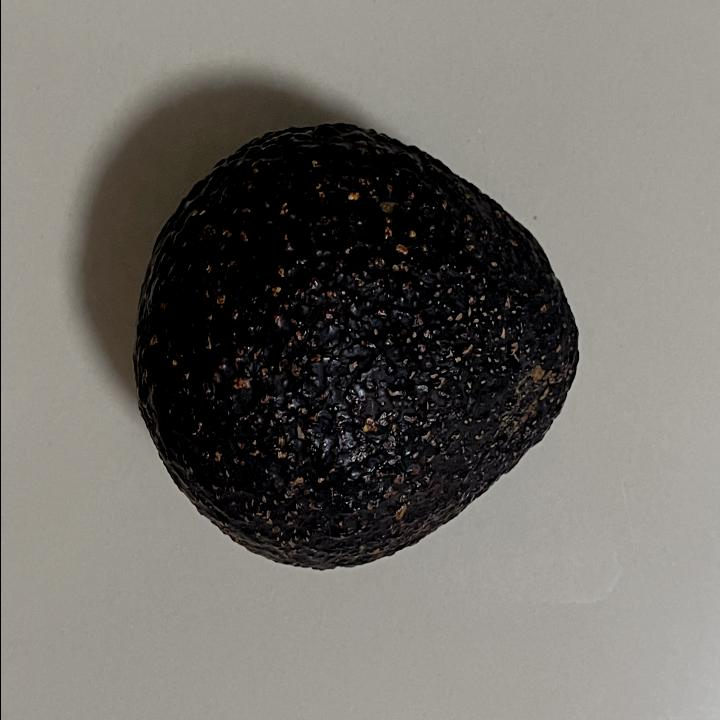Level3: (124, 114, 592, 584)
